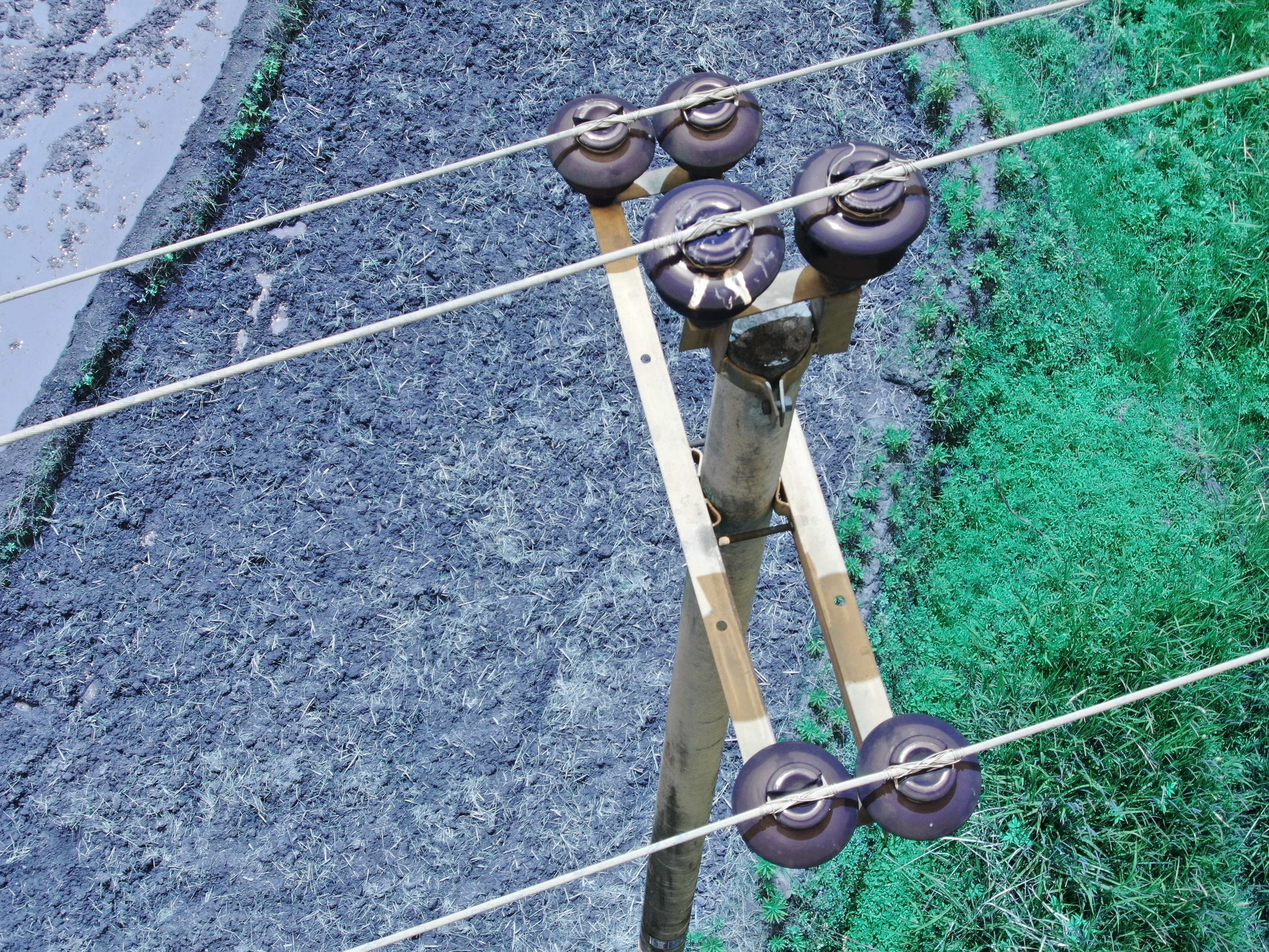severe_soiling_no_discharge_whole: (635, 173, 792, 326)
